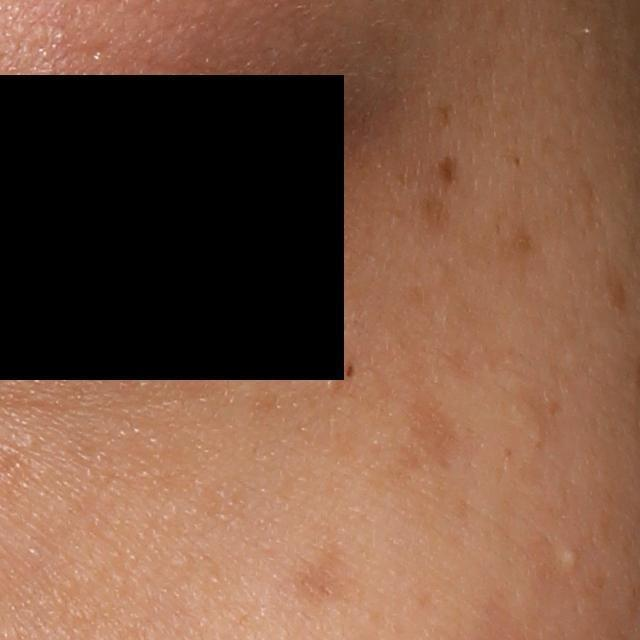comedo: (559, 539, 579, 570)
melasma: (369, 391, 464, 490), (292, 525, 354, 610), (605, 254, 631, 320), (412, 200, 450, 233)
